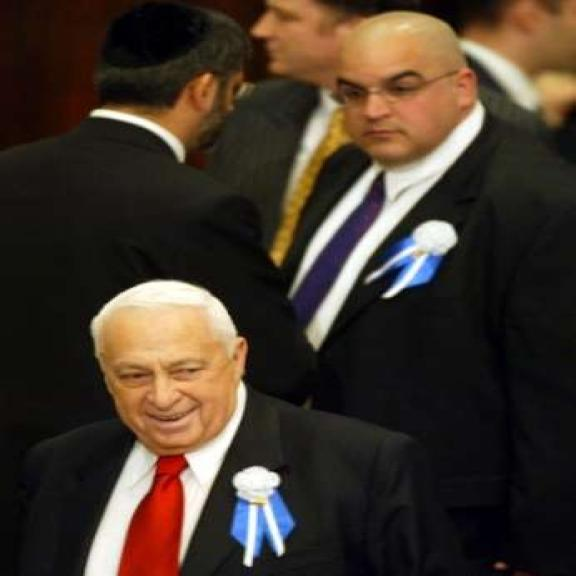face: (103, 329, 246, 459), (339, 38, 487, 163), (251, 2, 336, 80)
